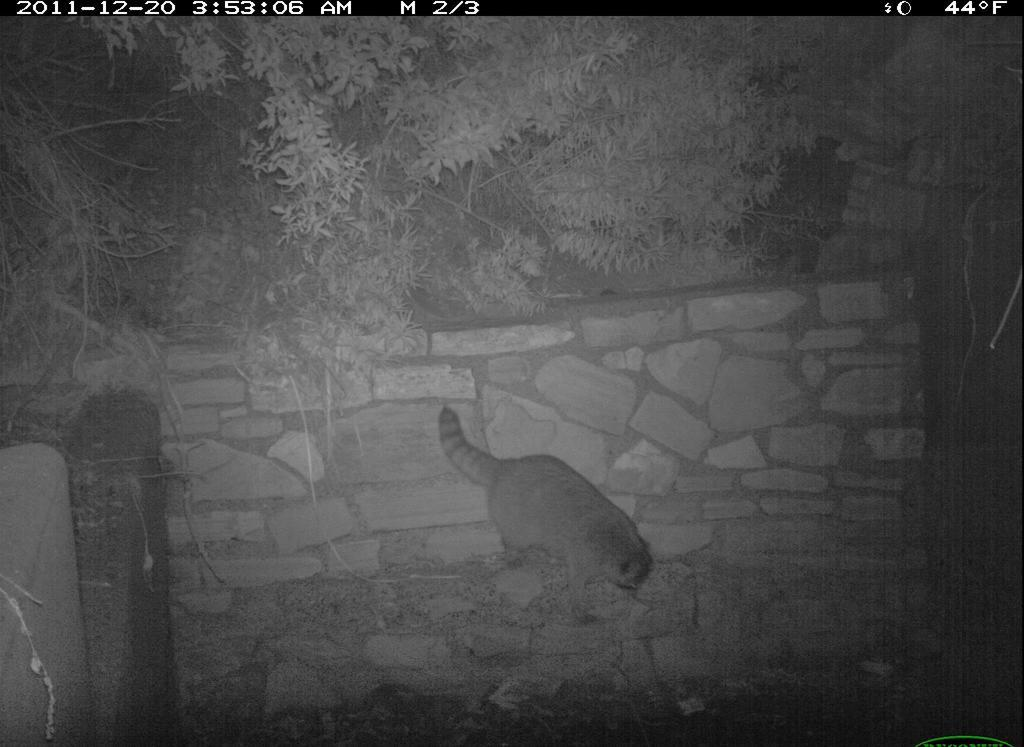raccoon: (432, 397, 658, 607)
